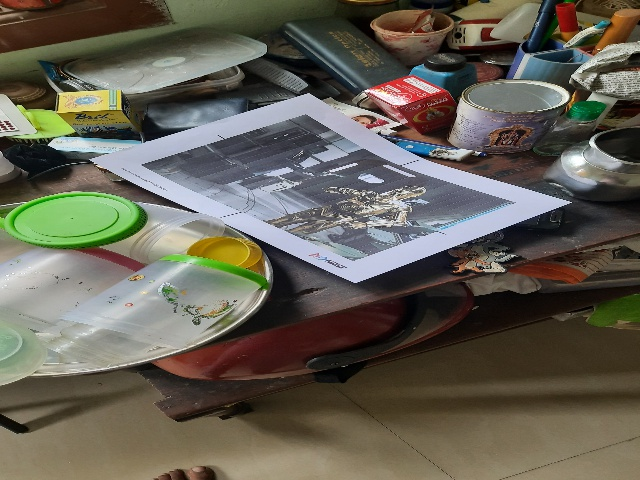rpt1: (130, 107, 538, 262)
